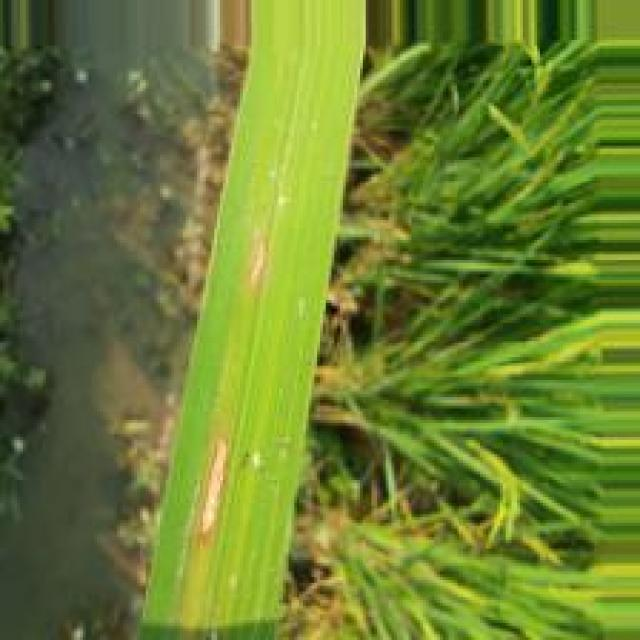Leaf_Blast: (197, 429, 231, 547)
